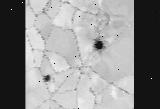good_void: (93, 5, 113, 28), (90, 38, 107, 54), (41, 72, 54, 83), (42, 1, 50, 14)
